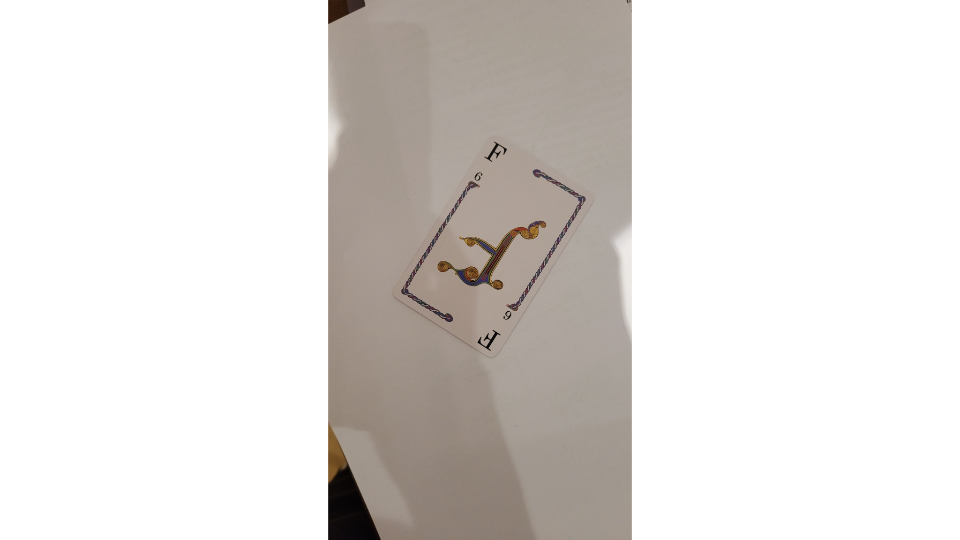F: (389, 133, 598, 361)
